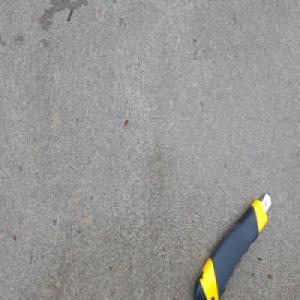Cutter: (191, 191, 272, 300)
